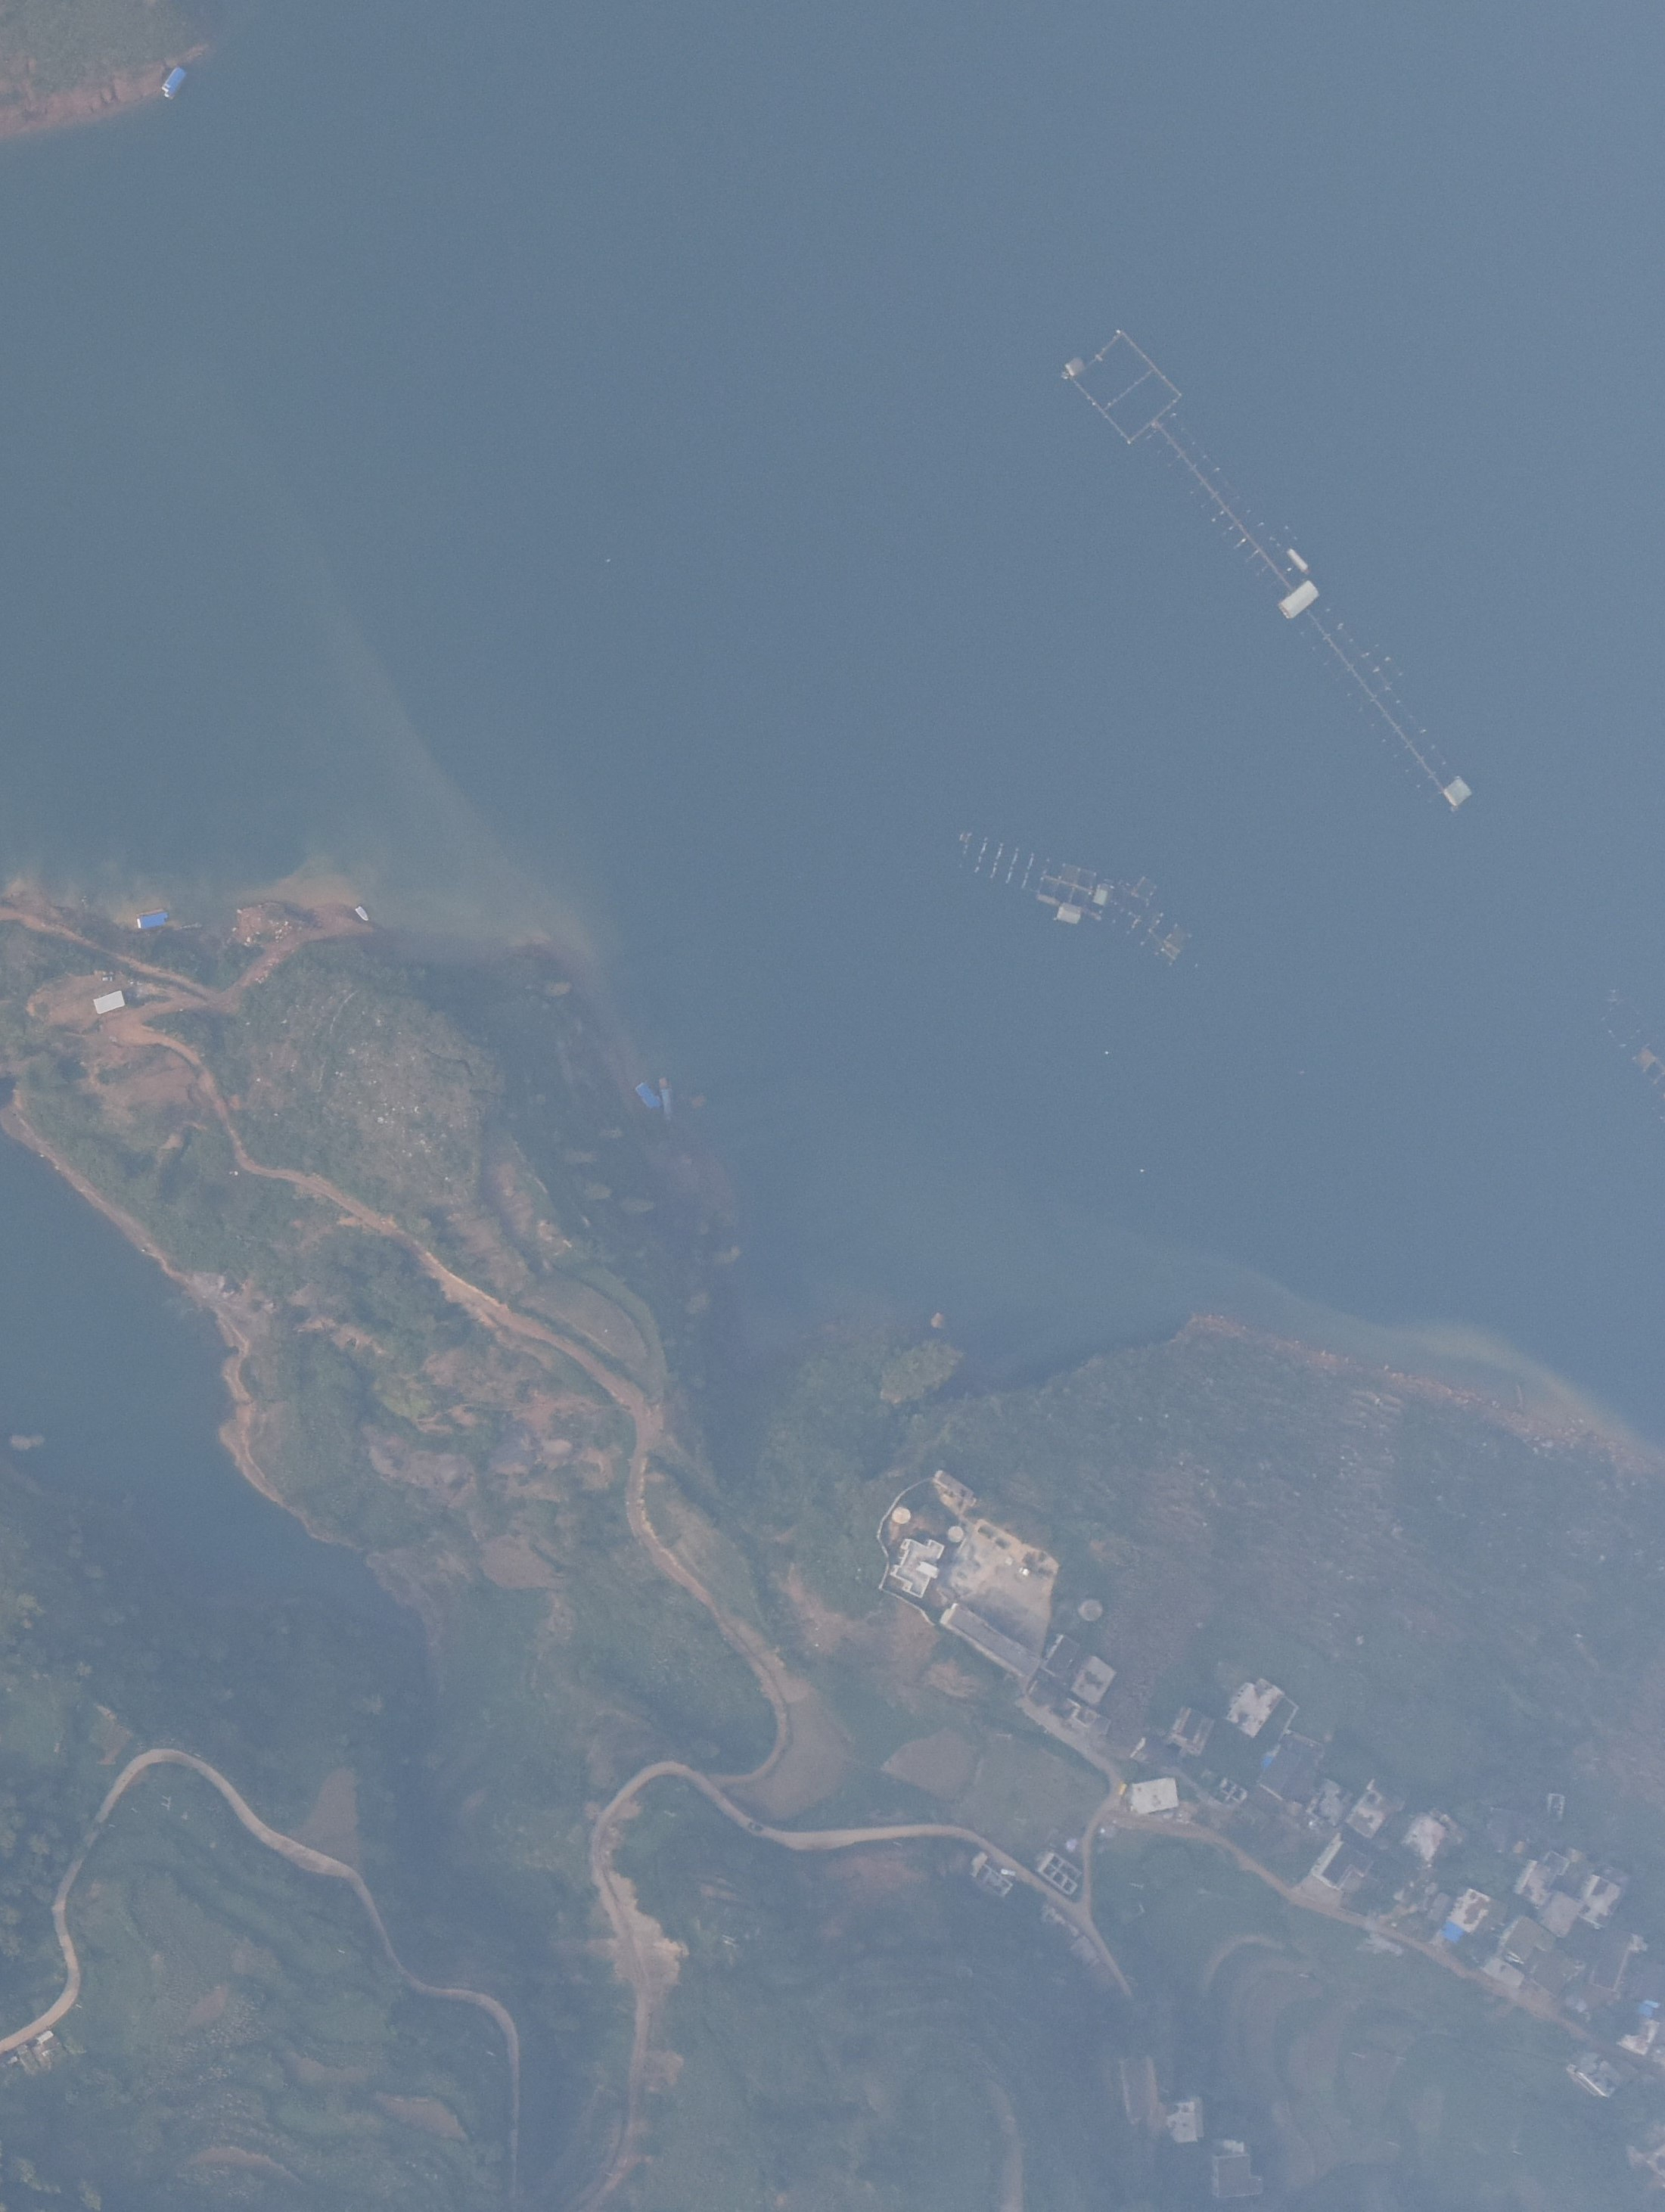building: (939, 1602, 1045, 1679), (1219, 1679, 1288, 1739), (1352, 1778, 1411, 1842), (1589, 1924, 1642, 1991), (1453, 1885, 1515, 1941), (892, 1537, 944, 1602), (1566, 2048, 1627, 2102), (1259, 1747, 1314, 1804), (1209, 2149, 1269, 2201), (1576, 1873, 1624, 1936), (1317, 1842, 1377, 1893), (1399, 1810, 1449, 1869), (1163, 1704, 1215, 1760), (1503, 1916, 1558, 1967), (1304, 1776, 1353, 1831), (1072, 1653, 1117, 1710), (965, 1850, 1014, 1900), (1511, 1860, 1560, 1909), (1036, 1850, 1084, 1899), (1166, 2096, 1213, 2145), (1122, 1776, 1182, 1813), (1039, 1633, 1081, 1685), (1539, 1889, 1583, 1938), (930, 1467, 975, 1506)
cultivation-mesh-cage: (1142, 404, 1298, 595), (1301, 603, 1456, 791), (1064, 327, 1182, 443), (949, 820, 1095, 908), (1111, 878, 1190, 963)
prefabricated-house: (1281, 582, 1317, 619), (158, 67, 193, 101), (91, 991, 131, 1019), (1446, 773, 1471, 810), (136, 911, 176, 933), (1055, 899, 1085, 927), (1437, 1920, 1468, 1946), (633, 1079, 660, 1108), (659, 1086, 679, 1118), (1629, 2000, 1657, 2019), (1094, 885, 1114, 909), (1065, 357, 1086, 377)
ship: (352, 902, 378, 926)
vehicle: (997, 1866, 1019, 1881), (745, 1820, 765, 1834)
well: (1076, 1598, 1105, 1623), (890, 1504, 911, 1524), (947, 1525, 968, 1545)
